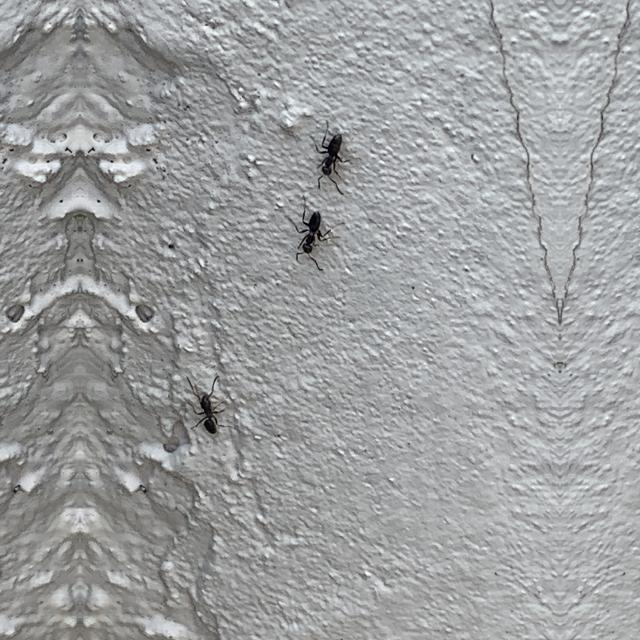Tapinoma: (190, 374, 230, 440), (290, 202, 330, 266), (314, 122, 352, 186)
